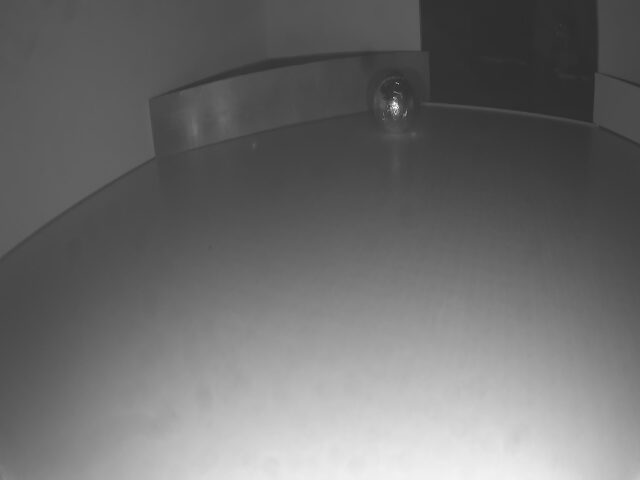Green: (149, 52, 429, 160)
Live: (375, 79, 418, 134)
Red: (591, 72, 640, 144)
